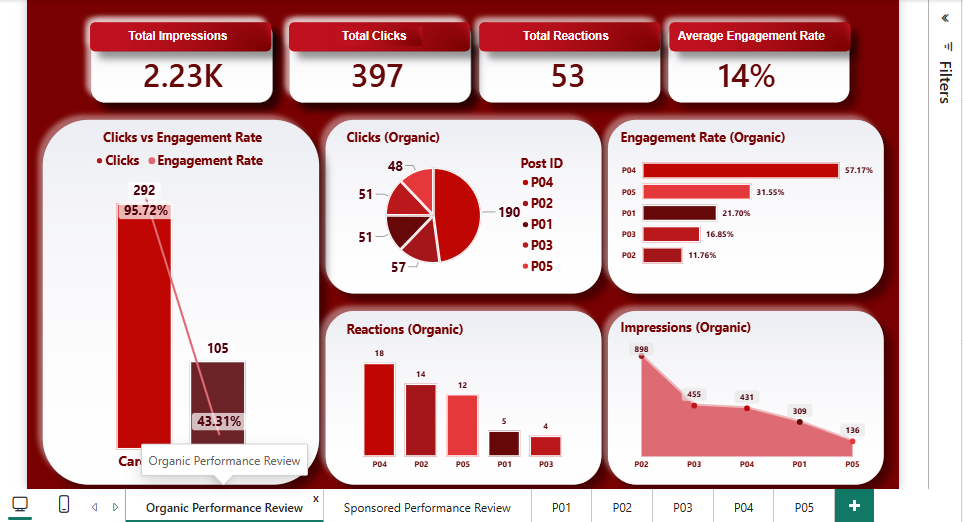

This screenshot's page, from the dashboard's own definition file:
{"tool":"powerbi","page":{"name":"Organic Performance Review","canvas":[1280,720],"ordinal":0},"visuals":[{"type":"pieChart","title":" Clicks (Organic)","fields":{"Category":["Data.Post ID"],"Y":["Sum(Data.Clicks (organic))"]},"box":[464.3,189.6,352.7,232.2],"z":0},{"type":"clusteredBarChart","title":"Engagement Rate (Organic)","fields":{"Category":["Data.Post ID"],"Y":["Sum(Data.Engagement rate (organic))"]},"box":[866.9,189.6,382,217.5],"z":1000},{"type":"areaChart","title":"Impressions (Organic) ","fields":{"Category":["Data.Post ID"],"Y":["Sum(Data.Unique impressions (organic))"]},"box":[866.9,468.7,382,233.6],"z":2000},{"type":"columnChart","title":"Reactions (Organic)","fields":{"Category":["Data.Post ID"],"Y":["Sum(Data.Reactions (organic))"]},"box":[464.3,471.7,352.7,230.7],"z":3000},{"type":"lineStackedColumnComboChart","title":"Clicks vs Engagement Rate ","fields":{"Category":["Data.Content Type"],"Y":["Sum(Data.Clicks (organic))"],"Y2":["Sum(Data.Engagement rate (organic))"]},"box":[29.4,189.6,398.2,512.8],"z":4000},{"type":"cardVisual","fields":{"Data":["Calculations.Total Clicks (Organic)"]},"box":[418.8,54.4,191,110.2],"z":5000},{"type":"cardVisual","fields":{"Data":["Calculations.Total Impressions (Organic)"]},"box":[133.7,54.4,191,110.2],"z":6000},{"type":"cardVisual","fields":{"Data":["Calculations.Total Reactions (Organic)"]},"box":[699.4,54.4,191,110.2],"z":7000},{"type":"cardVisual","fields":{"Data":["Calculations.Average Engagement Rate"]},"box":[962.4,54.4,191,110.2],"z":8000}]}

Visuals, with their boxes on the page's 1280x720 design canvas (x1, y1, x2, y2). These are canvas units, not pixel positions in the 963x522 screenshot, which may show the page scaled, cropped or inside an application window:
" Clicks (Organic)" pieChart: bbox(464, 190, 817, 422)
"Engagement Rate (Organic)" clusteredBarChart: bbox(867, 190, 1249, 407)
"Impressions (Organic) " areaChart: bbox(867, 469, 1249, 702)
"Reactions (Organic)" columnChart: bbox(464, 472, 817, 702)
"Clicks vs Engagement Rate " lineStackedColumnComboChart: bbox(29, 190, 428, 702)
cardVisual - Calculations.Total Clicks (Organic): bbox(419, 54, 610, 165)
cardVisual - Calculations.Total Impressions (Organic): bbox(134, 54, 325, 165)
cardVisual - Calculations.Total Reactions (Organic): bbox(699, 54, 890, 165)
cardVisual - Calculations.Average Engagement Rate: bbox(962, 54, 1153, 165)
